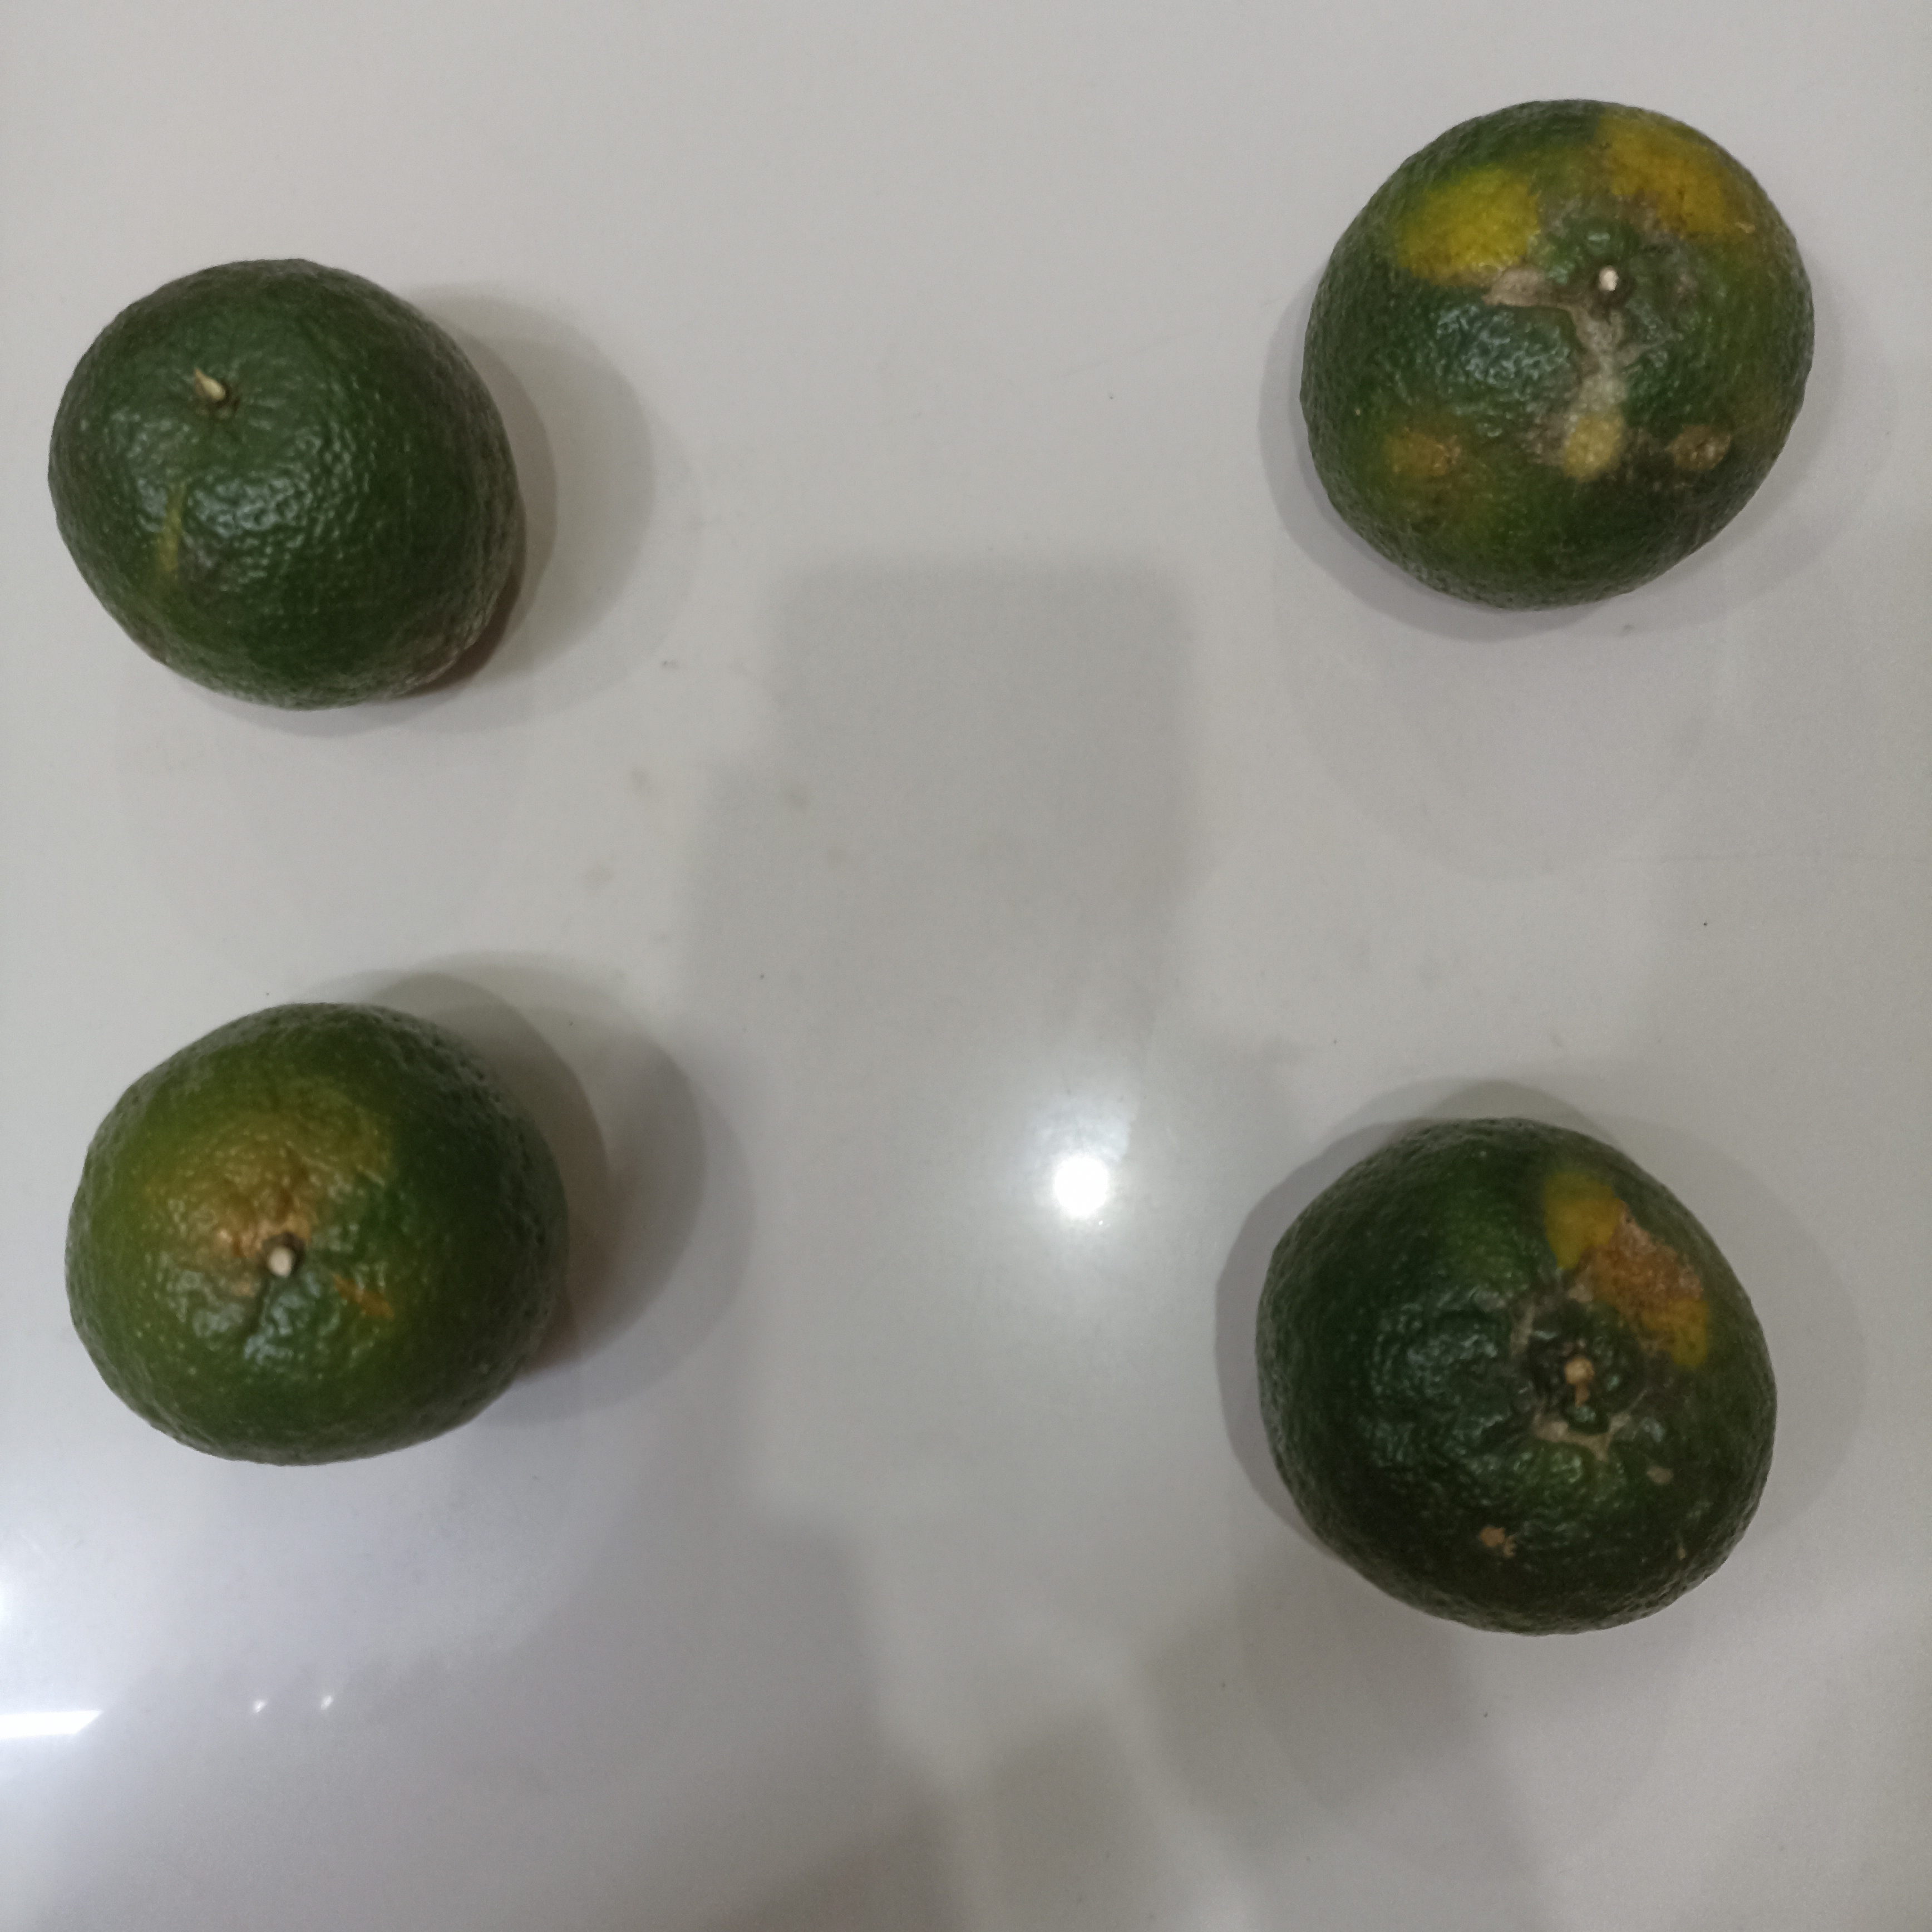Cam: (1258, 1120, 1780, 1645), (1297, 101, 1812, 614), (64, 1005, 564, 1467), (48, 262, 525, 708)
